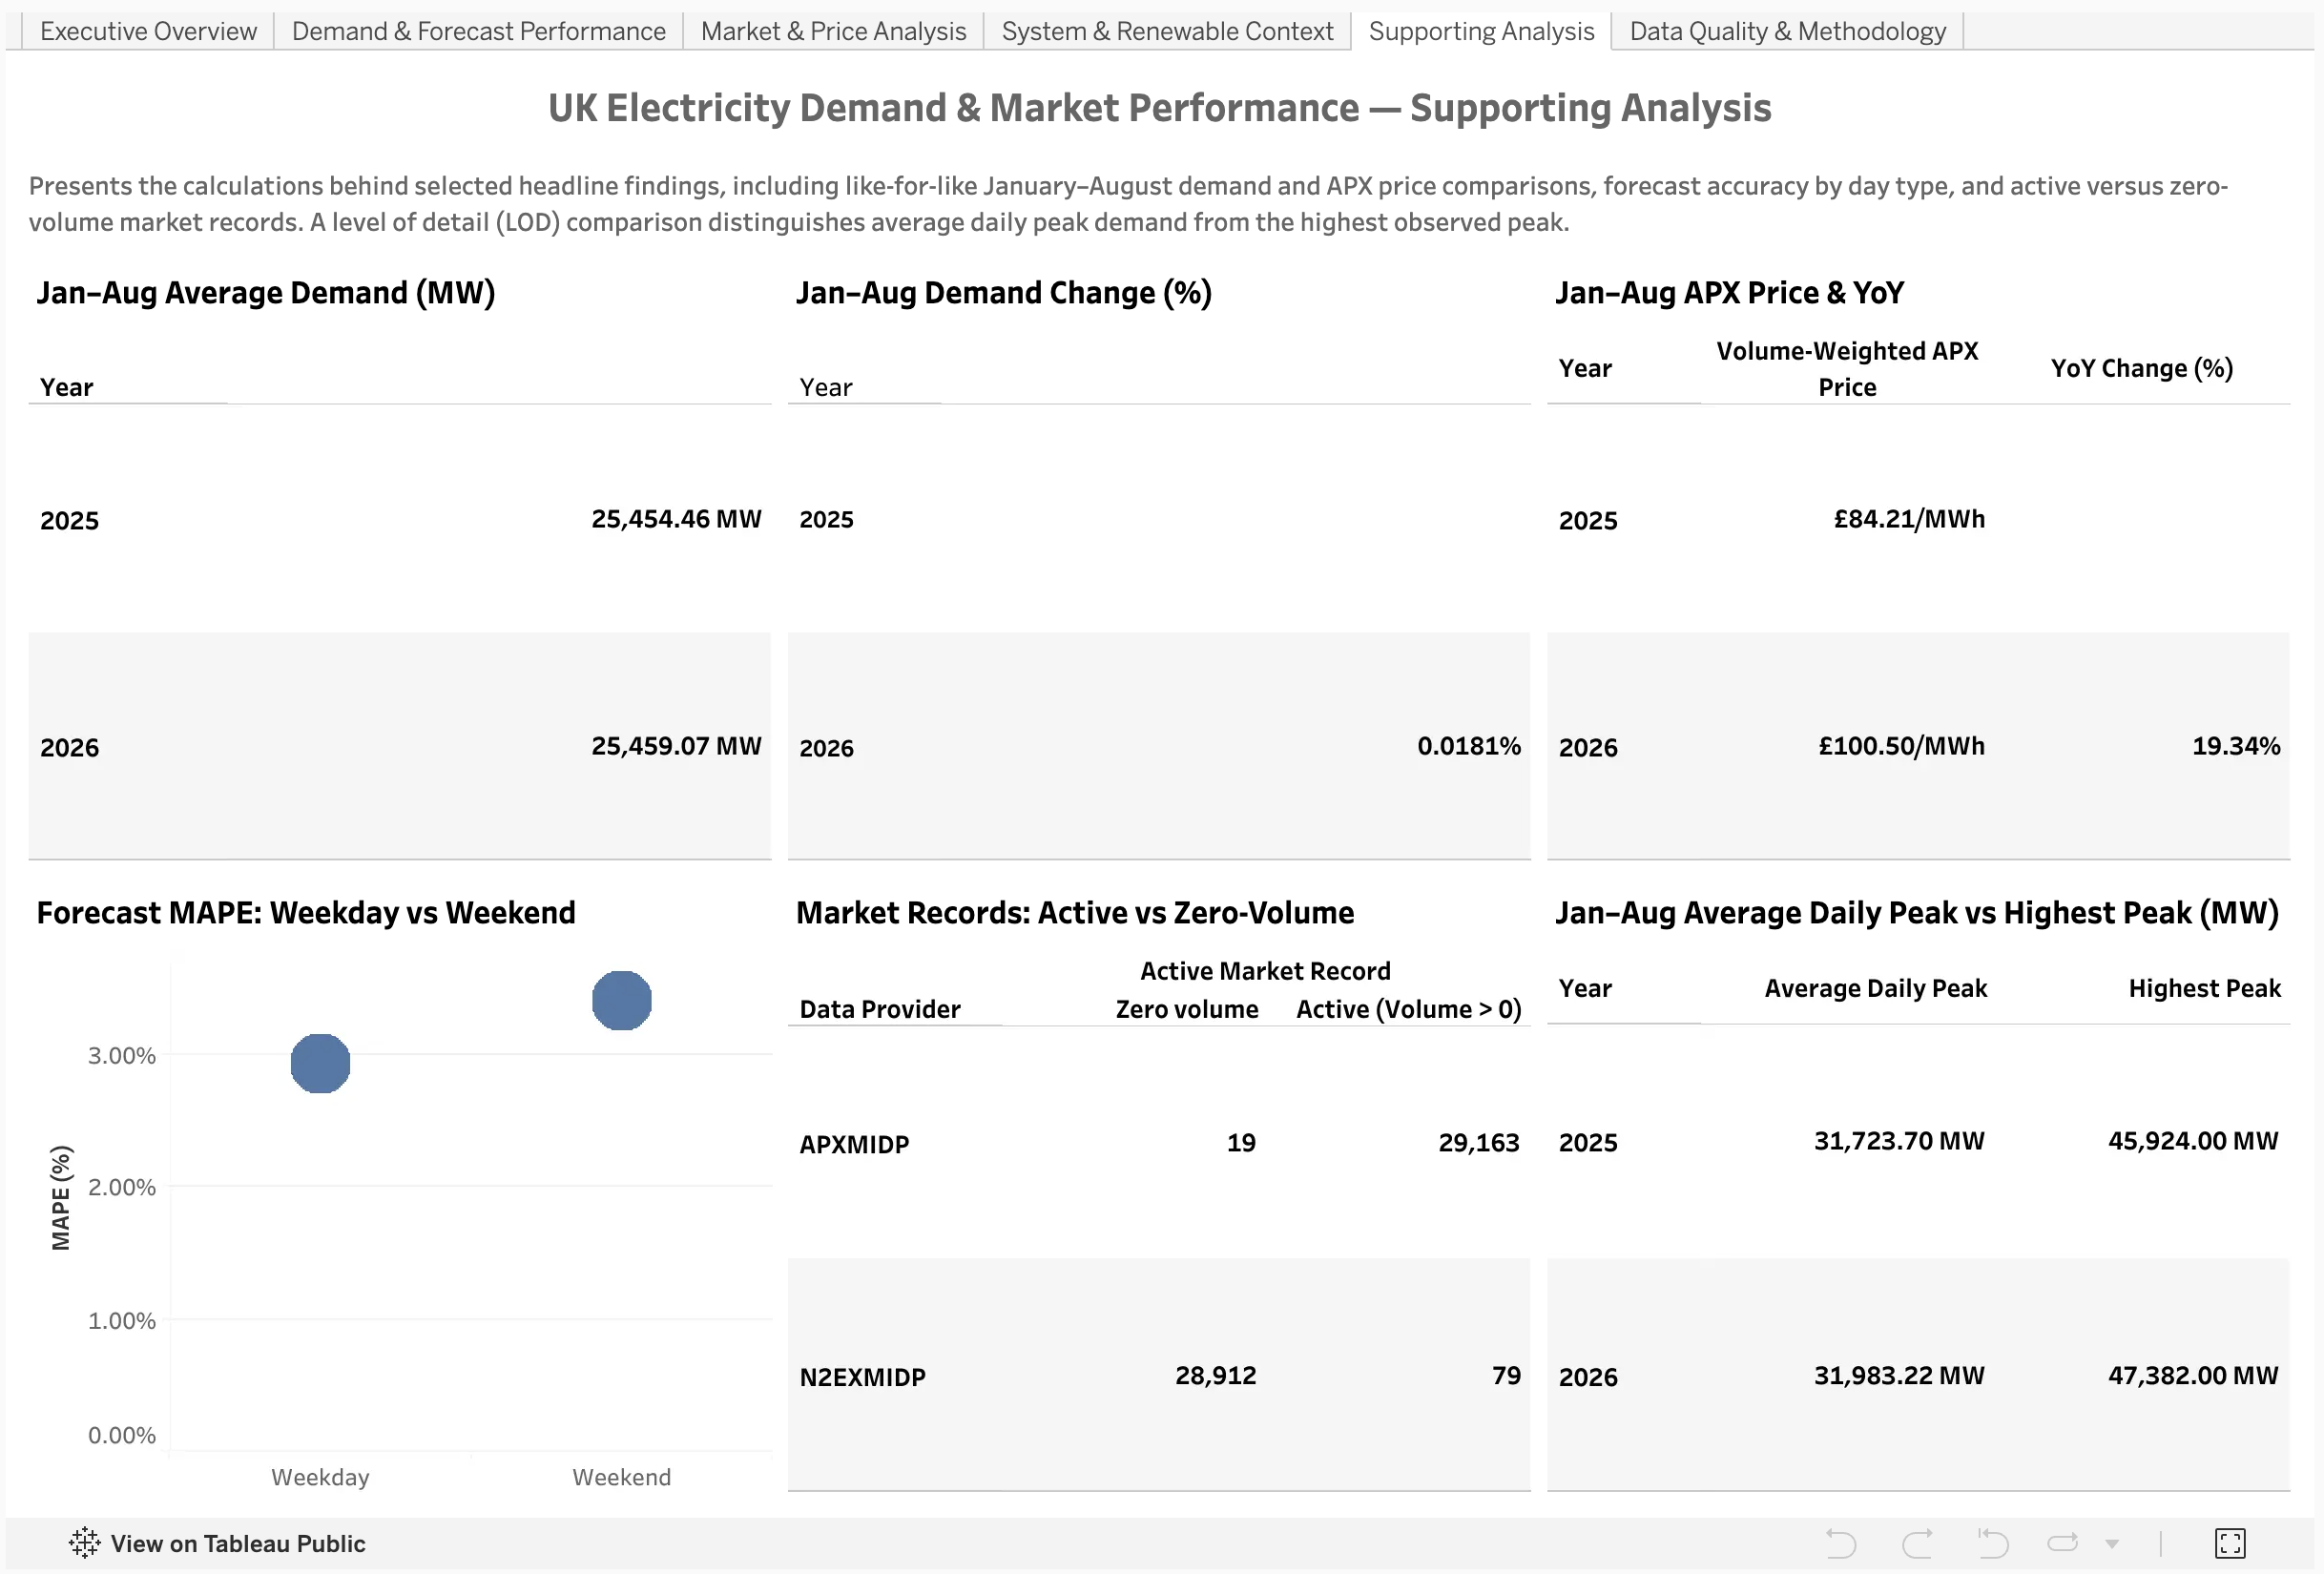

This screenshot's page, from the dashboard's own definition file:
{"tool":"tableau","page":{"name":"Supporting Analysis","canvas":[1210,766],"ordinal":4},"visuals":[{"type":"text","box":[8,8,1194,94]},{"type":"worksheet","title":"Jan–Aug Average Demand (MW)","mark":"Automatic","rows":["Year"],"box":[8,102,398,325]},{"type":"worksheet","title":"Jan–Aug Demand Change (%)","mark":"Automatic","rows":["Year"],"box":[406,102,398,325]},{"type":"worksheet","title":"Jan–Aug APX Price & YoY","mark":"Automatic","rows":["Year"],"box":[804,102,398,325]},{"type":"worksheet","title":"Forecast MAPE: Weekday vs Weekend","mark":"Circle","cols":["Is Weekend"],"box":[8,427,398,331]},{"type":"worksheet","title":"Market Records: Active vs Zero-Volume","mark":"Automatic","rows":["DataProvider"],"cols":["Calculation_0116049554993159"],"box":[406,427,398,331]},{"type":"worksheet","title":"Jan–Aug Average Daily Peak vs Highest Peak (MW)","mark":"Automatic","rows":["Year"],"box":[804,427,398,331]}]}

Visuals, with their boxes on the page's 1210x766 design canvas (x1, y1, x2, y2). These are canvas units, not pixel positions in the 2324x1574 screenshot, which may show the page scaled, cropped or inside an application window:
text: 8, 8, 1202, 102
"Jan–Aug Average Demand (MW)" worksheet: 8, 102, 406, 427
"Jan–Aug Demand Change (%)" worksheet: 406, 102, 804, 427
"Jan–Aug APX Price & YoY" worksheet: 804, 102, 1202, 427
"Forecast MAPE: Weekday vs Weekend" worksheet (Circle marks): 8, 427, 406, 758
"Market Records: Active vs Zero-Volume" worksheet: 406, 427, 804, 758
"Jan–Aug Average Daily Peak vs Highest Peak (MW)" worksheet: 804, 427, 1202, 758
